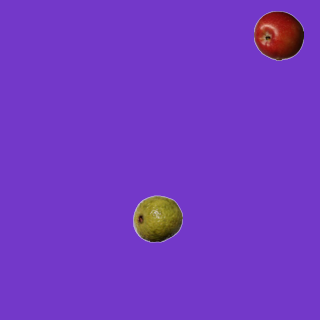Apple Braeburn: (253, 10, 303, 60)
Guava: (132, 193, 182, 243)
